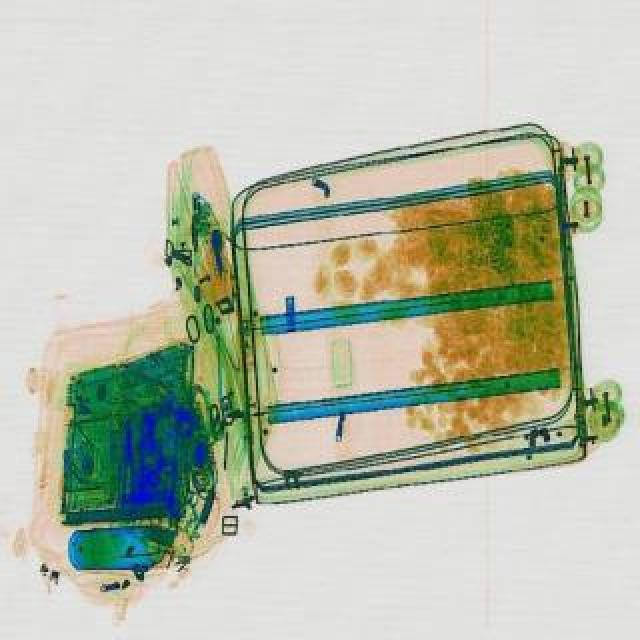wrench: (120, 418, 136, 502)
